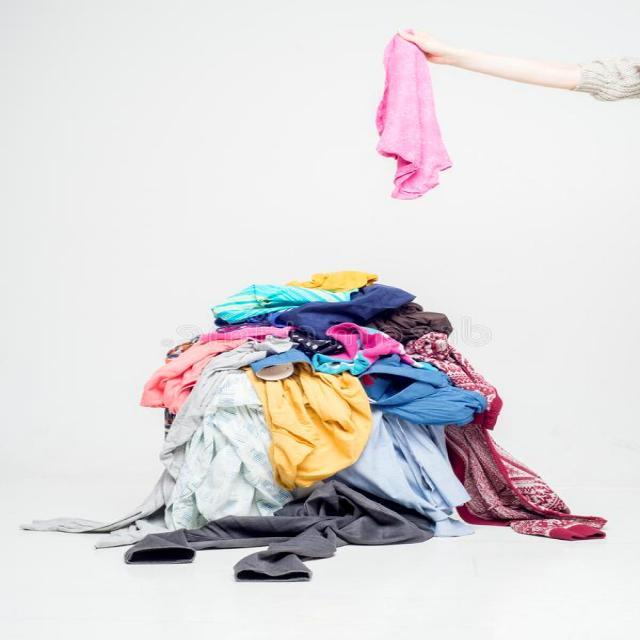clothes: (180, 259, 453, 570)
